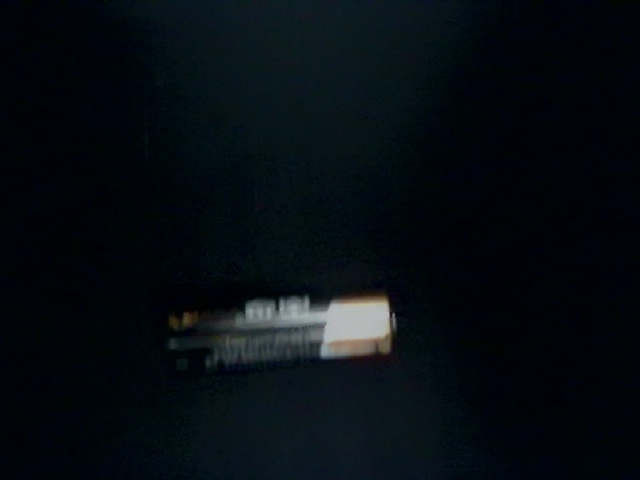QTLJ: (56, 47, 199, 268)
